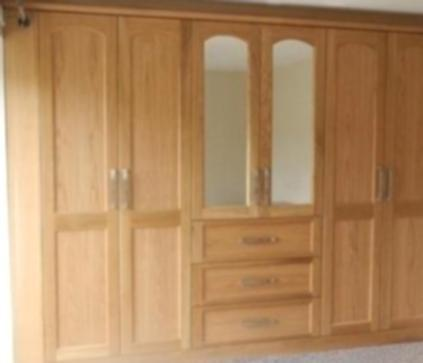Armario: (0, 0, 423, 359)
